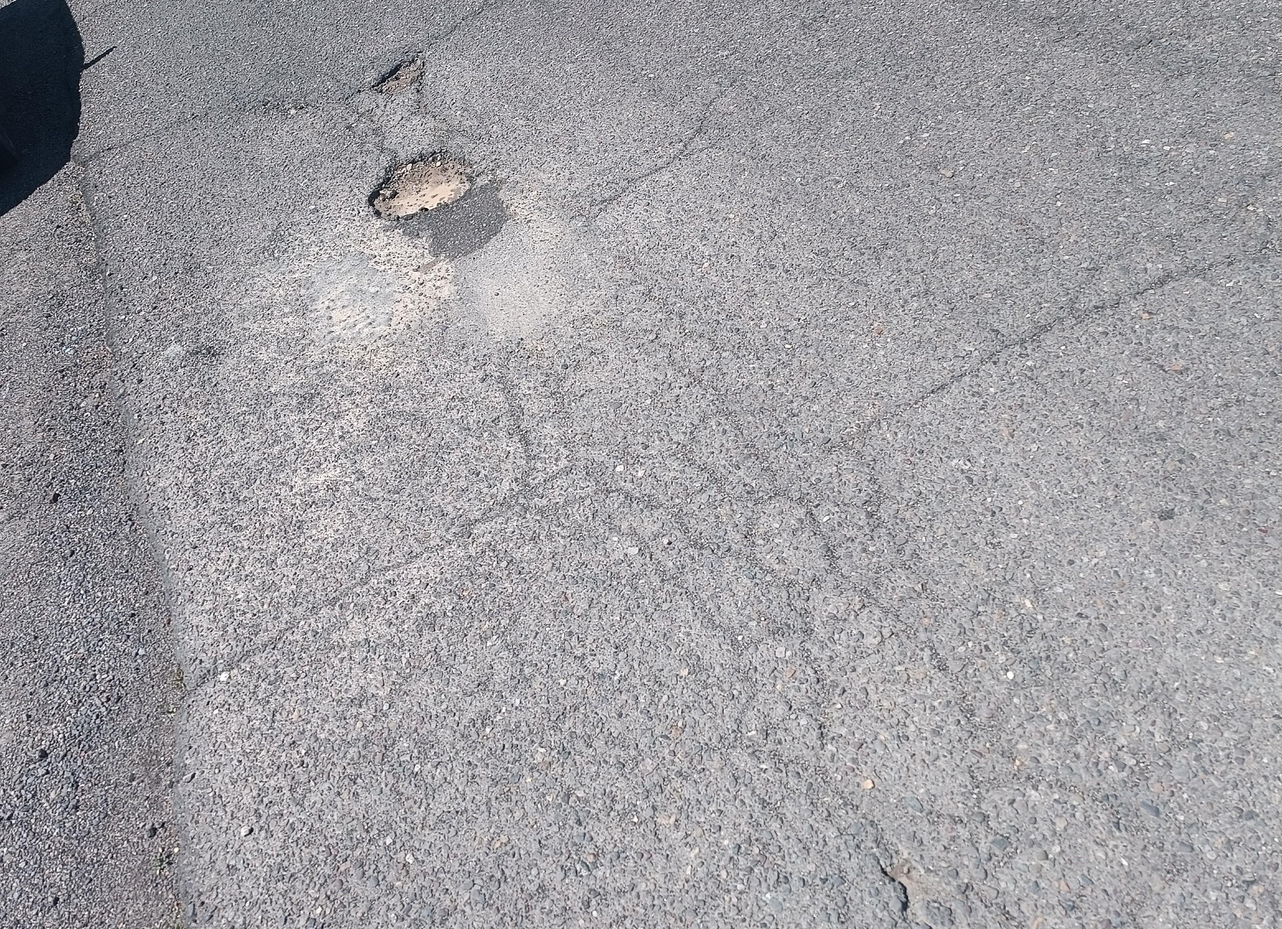BACHE: (369, 150, 479, 222), (372, 52, 423, 93)
GRIETA: (186, 510, 490, 697), (872, 267, 1208, 427), (594, 80, 740, 218), (419, 0, 517, 55), (230, 89, 363, 115), (81, 132, 155, 167), (344, 103, 386, 153)
PIEL DE COCODRILO: (482, 328, 1107, 926)
